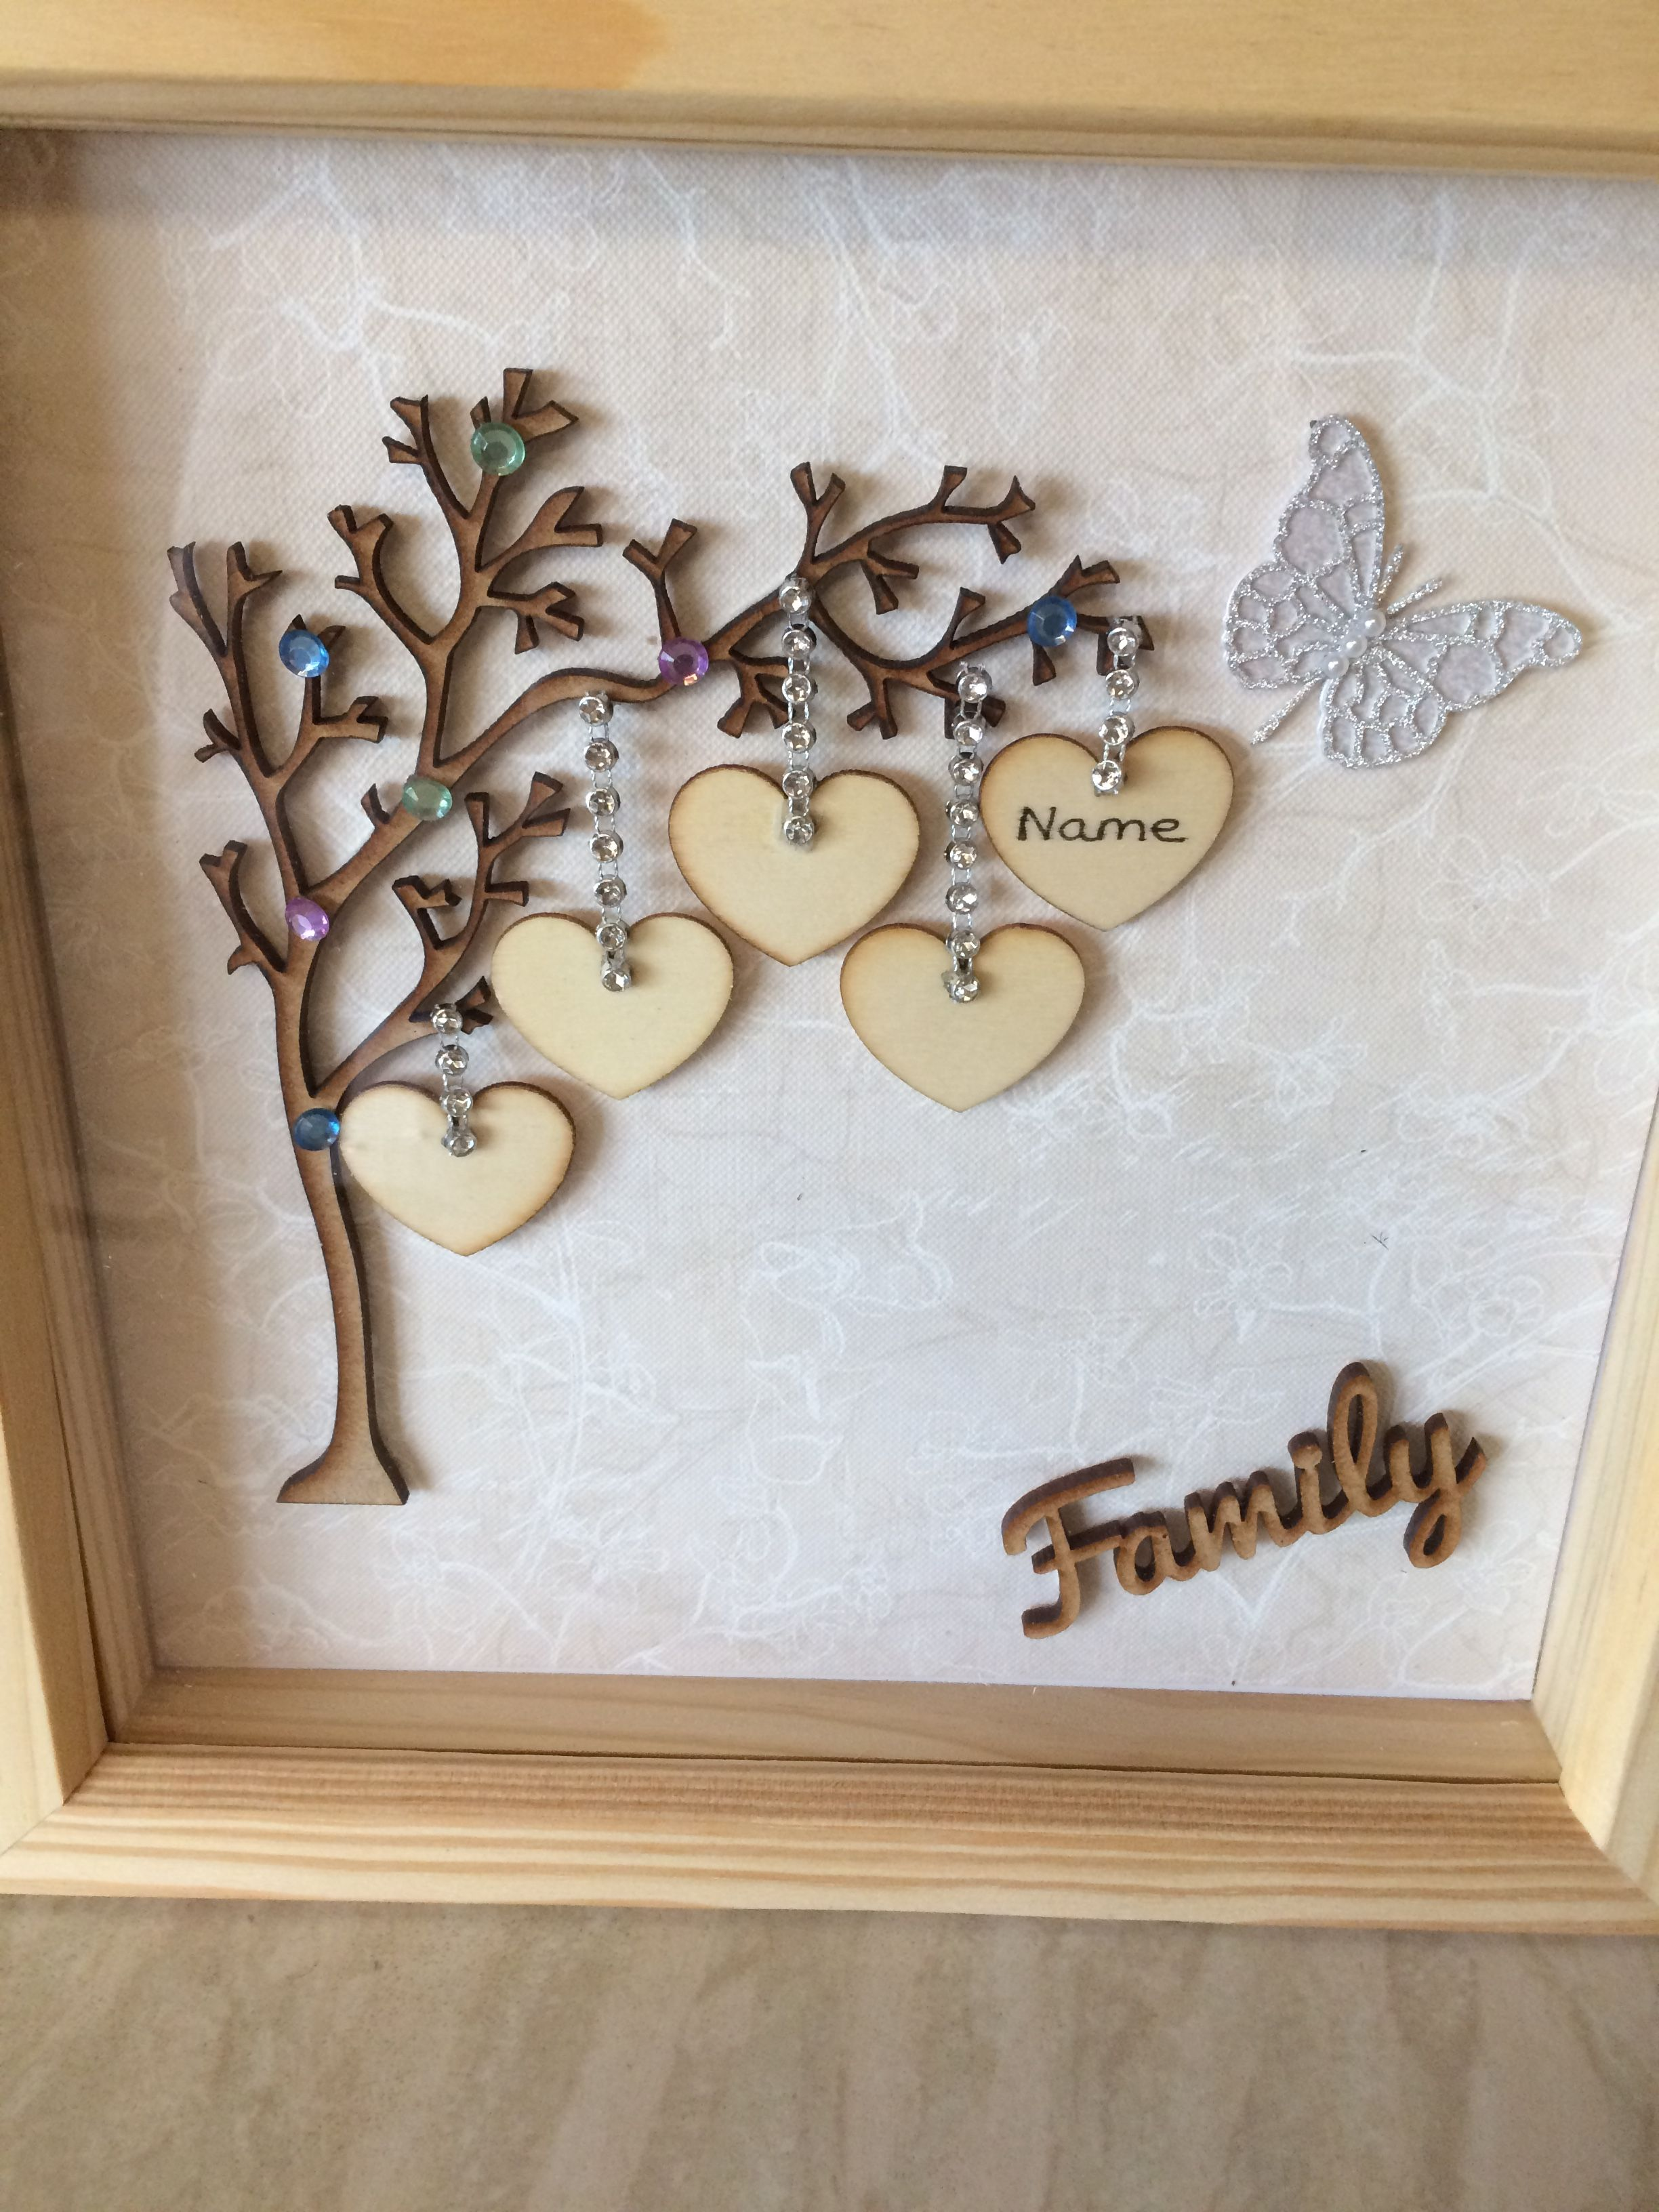foto: (9, 33, 1659, 2071)
